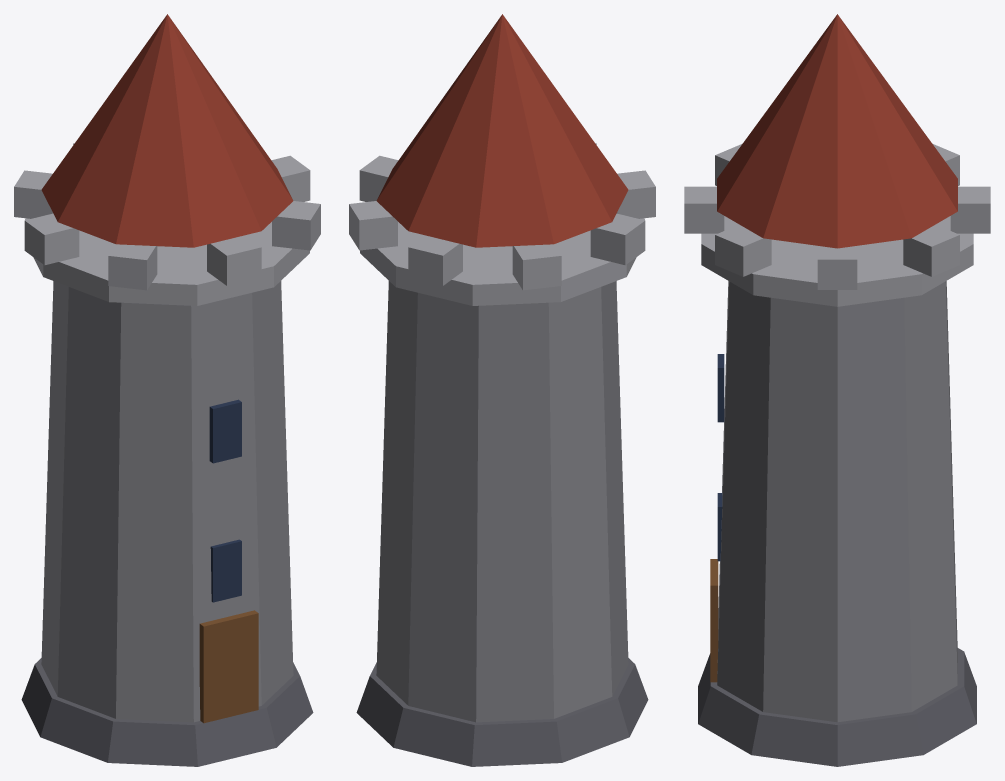
The model's file is tower.obj.
The picture shows the model from 3 angles, left to right: view 1: azimuth 30°, elevation 25°; view 2: azimuth 150°, elevation 25°; view 3: azimuth 270°, elevation 25°; orthographic projection.
Parts seen in each view (by area): view 1: tower; view 2: tower; view 3: tower.
Boxes of the visible parts, bbox=[...] form: tower: bbox=[14, 14, 320, 766]; tower: bbox=[349, 14, 655, 766]; tower: bbox=[684, 14, 990, 766].
Bounding box in the file's own units: 4.6 × 11.45 × 4.6.
